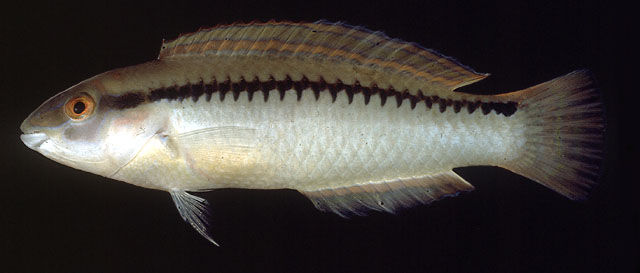fish: (19, 19, 604, 248)
